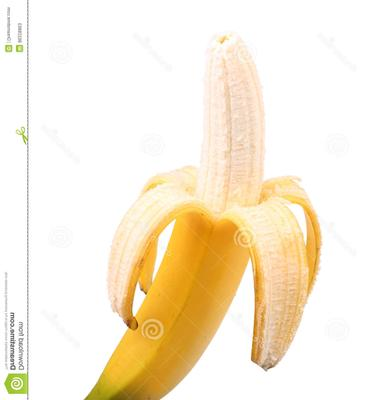banana: (0, 0, 383, 400)
